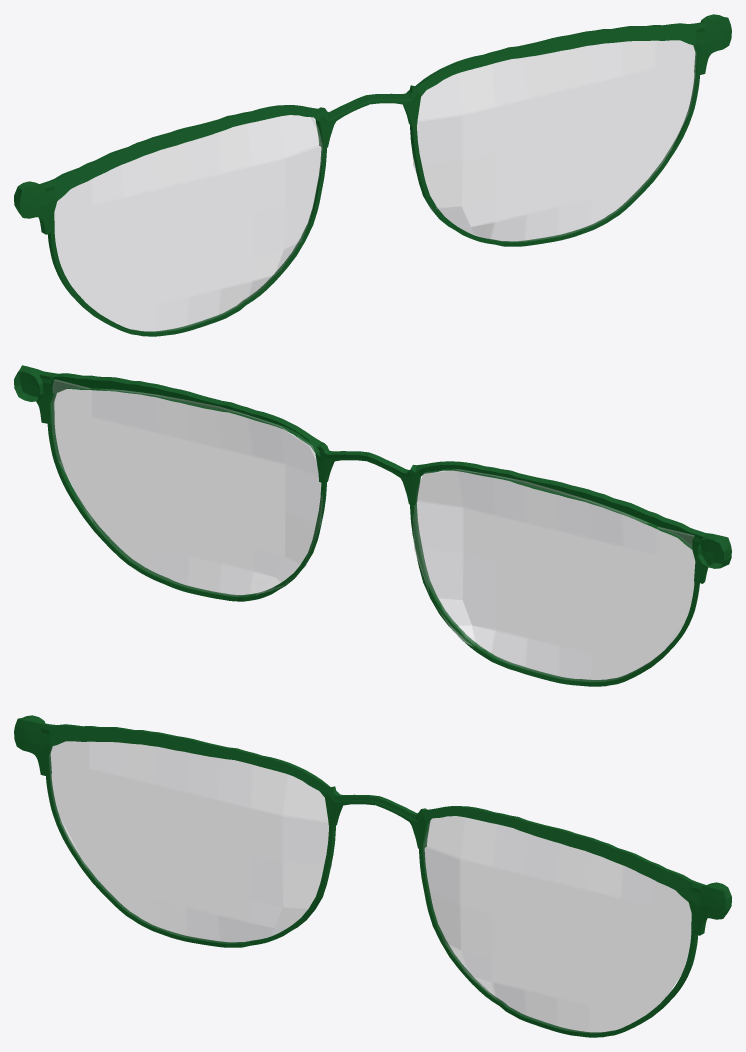
The model's file is 6-Green-less.glb.
The picture shows the model from 3 angles, top to bottom: view 1: azimuth 30°, elevation 25°; view 2: azimuth 150°, elevation 25°; view 3: azimuth 330°, elevation 25°; orthographic projection.
Parts seen in each view (by area): view 1: Lens.001, FrameFront; view 2: Lens.001, FrameFront; view 3: Lens.001, FrameFront.
Part boxes in pixels (x1,y1,x2,y2): Lens.001: (54, 40, 696, 331); FrameFront: (14, 14, 731, 336); Lens.001: (51, 379, 694, 681); FrameFront: (14, 365, 731, 686); Lens.001: (49, 741, 691, 1032); FrameFront: (14, 715, 731, 1037).
Size of the model in its own units: 2.19 by 0.5922 by 0.0604.
